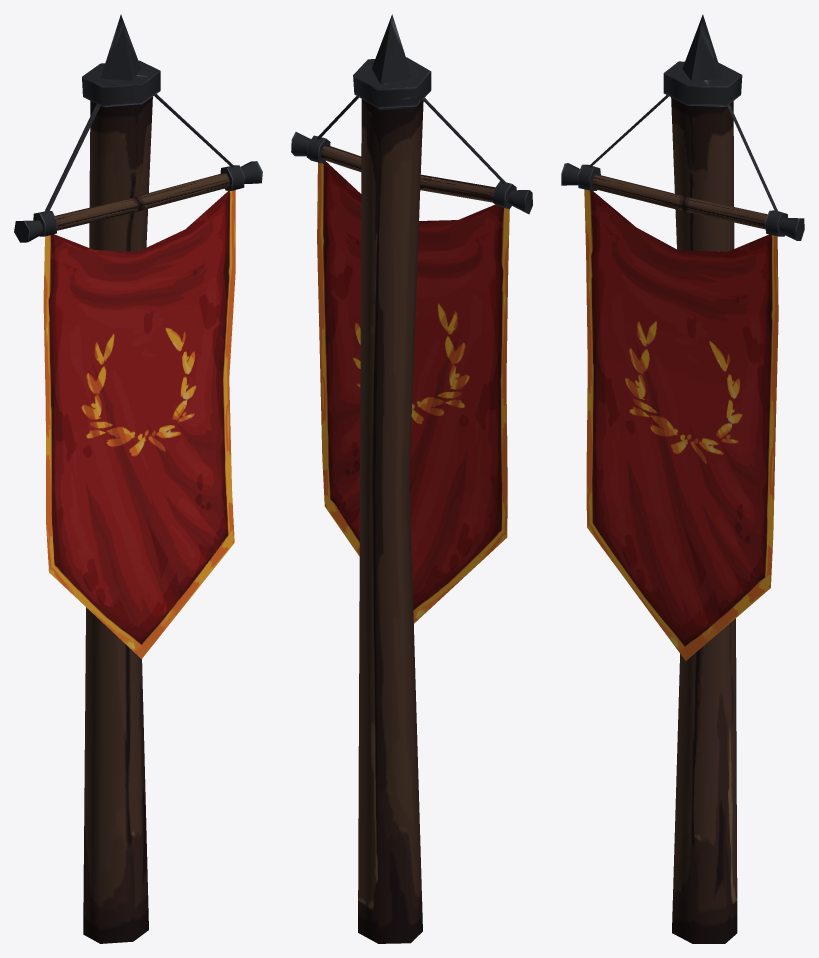
Rendered from SM_PROP_flag_dungeon_01.fbx.
The picture shows the model from 3 angles, left to right: view 1: azimuth 30°, elevation 25°; view 2: azimuth 150°, elevation 25°; view 3: azimuth 330°, elevation 25°; orthographic projection.
Parts seen in each view (by area): view 1: SM_PROP_flag_dungeon_01; view 2: SM_PROP_flag_dungeon_01; view 3: SM_PROP_flag_dungeon_01.
Part boxes in pixels (x1,y1,x2,y2): SM_PROP_flag_dungeon_01: (14, 14, 262, 943); SM_PROP_flag_dungeon_01: (291, 14, 532, 943); SM_PROP_flag_dungeon_01: (561, 14, 804, 943).
Size of the model in its own units: 125 by 463 by 40.28.
